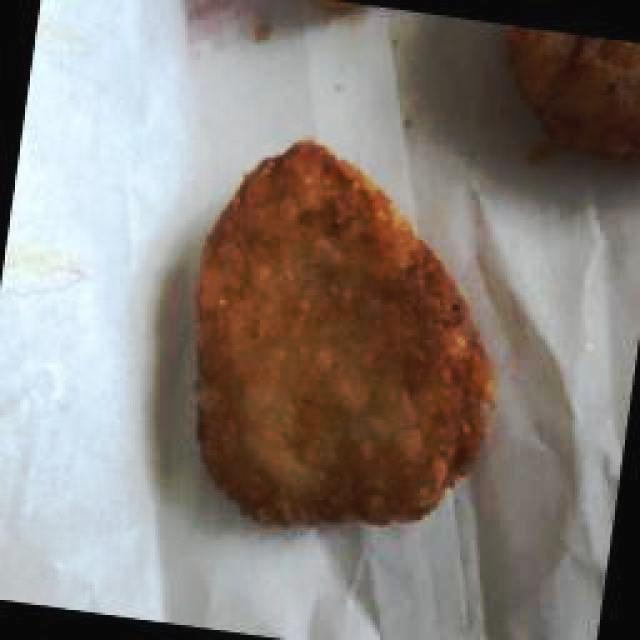Hashbrown: (194, 142, 493, 523)
